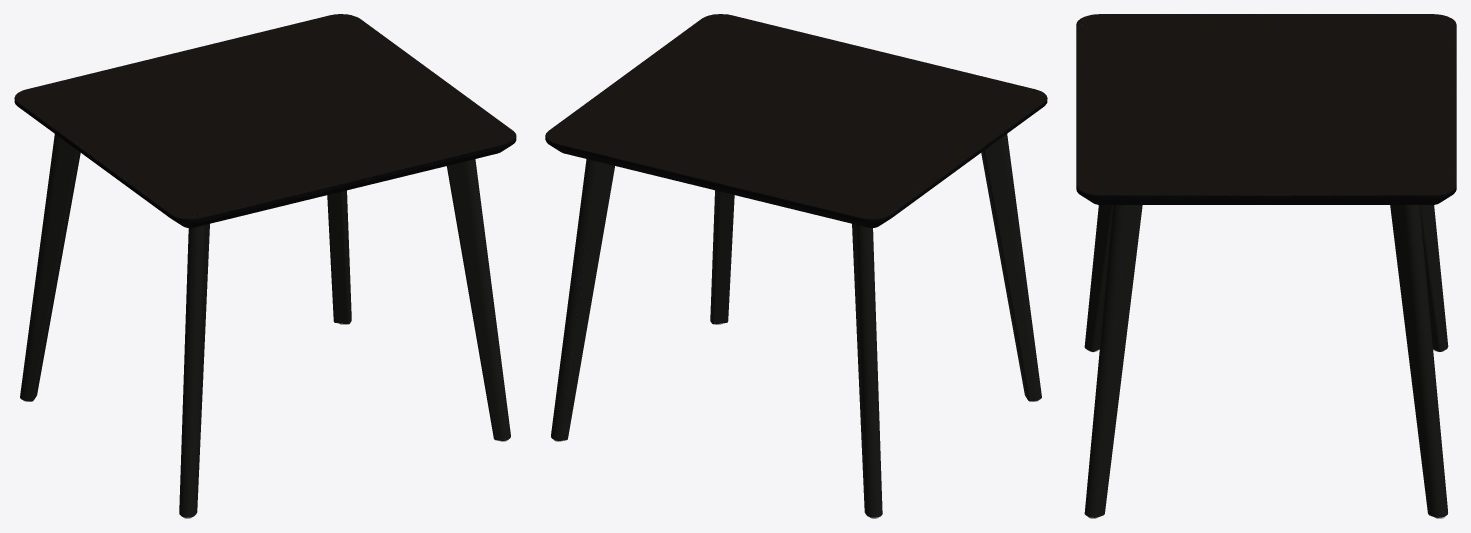
Rendered from 36 - LISABO Table - blackash veneer 88x78 cm.glb.
3 renders of one model, left to right at view 1: azimuth 30°, elevation 25°; view 2: azimuth 150°, elevation 25°; view 3: azimuth 270°, elevation 25°, orthographic. The views are drawn at different scales.
Visible parts, largest first — view 1: 60563780-LISABO001; view 2: 60563780-LISABO001; view 3: 60563780-LISABO001.
Boxes of the visible parts, left/top/right/bottom form: 60563780-LISABO001: left=14, top=14, right=516, bottom=518; 60563780-LISABO001: left=545, top=14, right=1047, bottom=518; 60563780-LISABO001: left=1076, top=14, right=1456, bottom=518.
Size of the model in its own units: 0.8803 by 0.7446 by 0.7804.
1 material, 1 textured.
